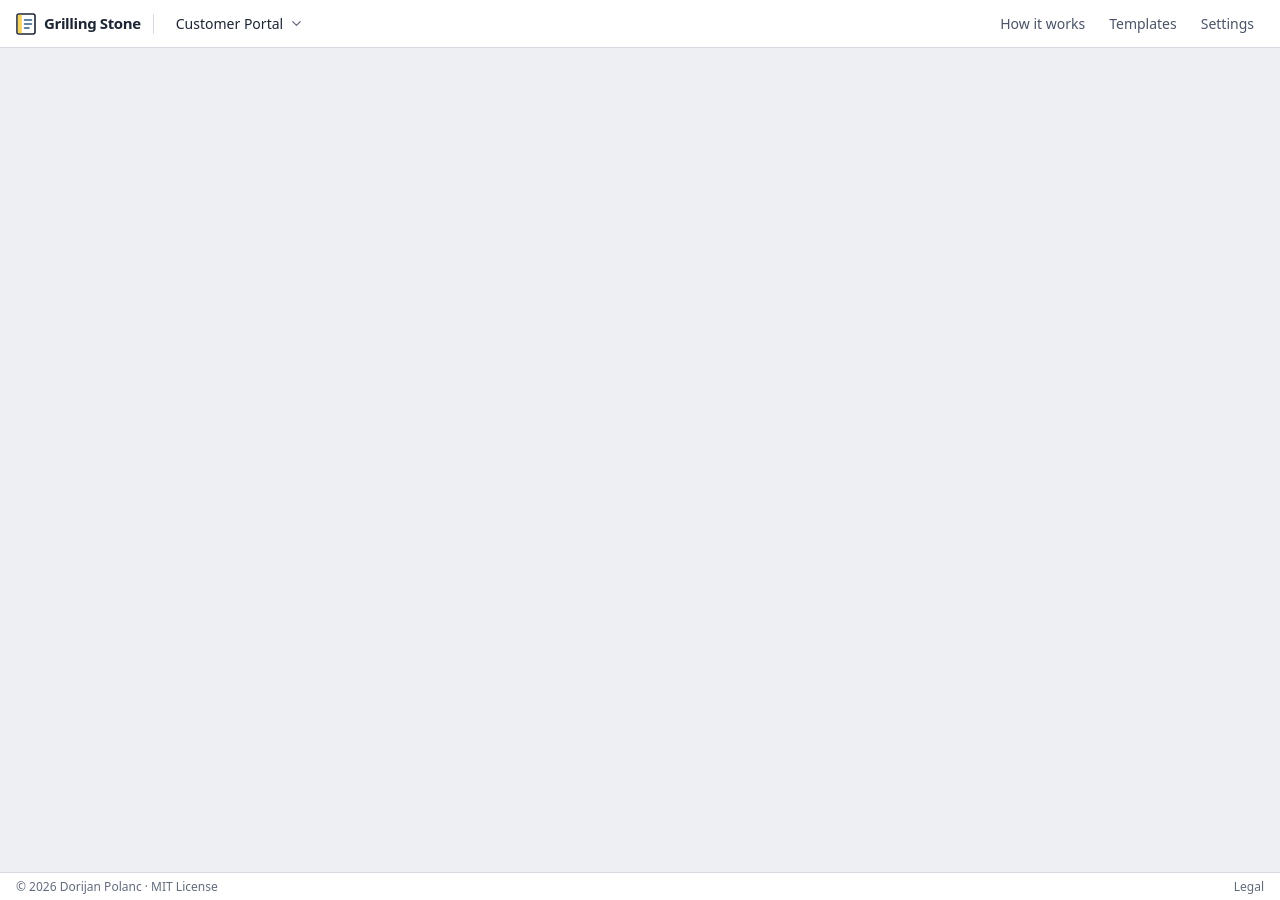
Scenario: AppLayout › switches Projects from the header and remembers the last one
Click the button "Customer Portal" at coordinates (240, 24), box [166, 8, 314, 40]
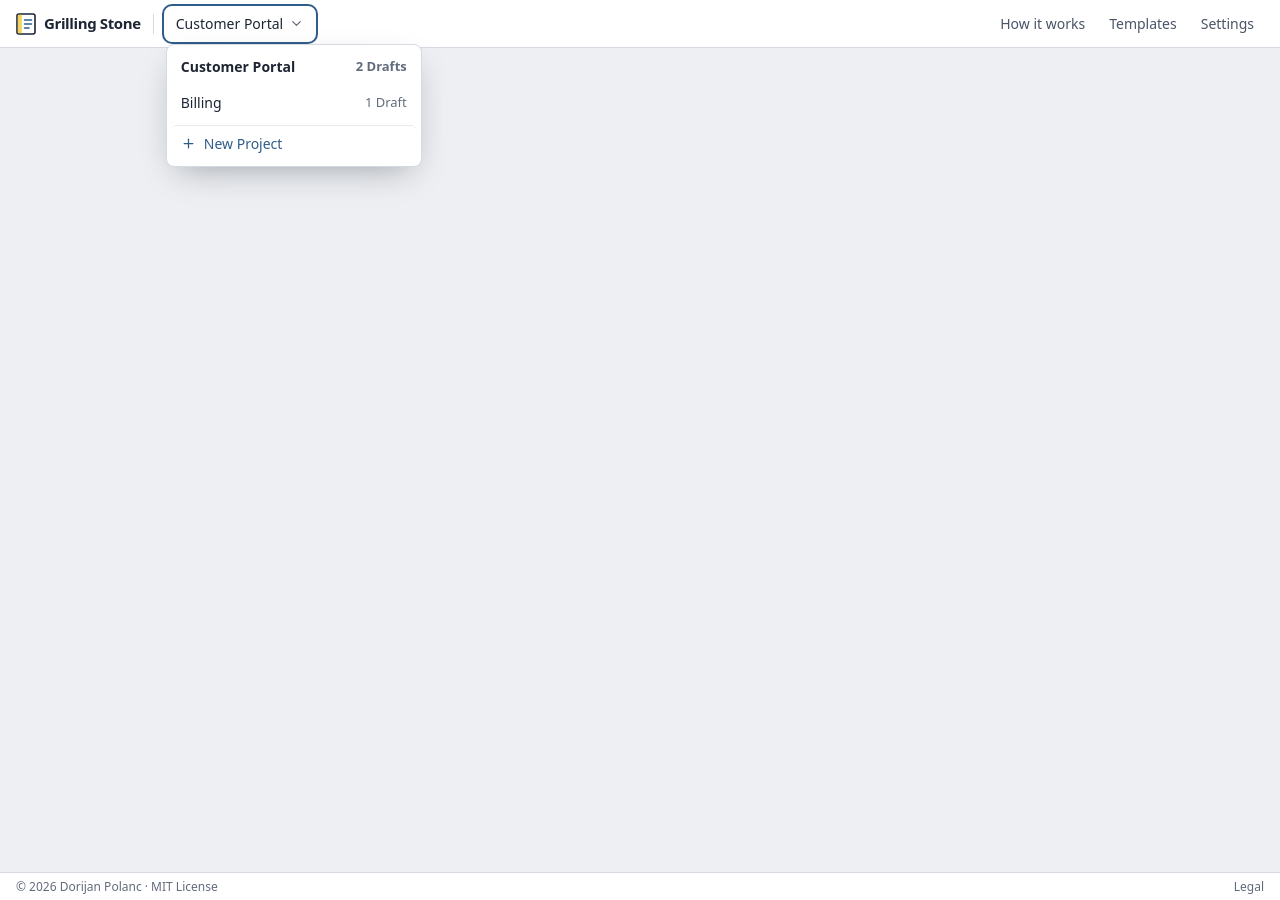
Now the button "Billing 1 Draft" is shown, box [171, 84, 417, 120]
Click the element that starts with "Grilling Stone" at coordinates (640, 450), box [0, 0, 1279, 899]
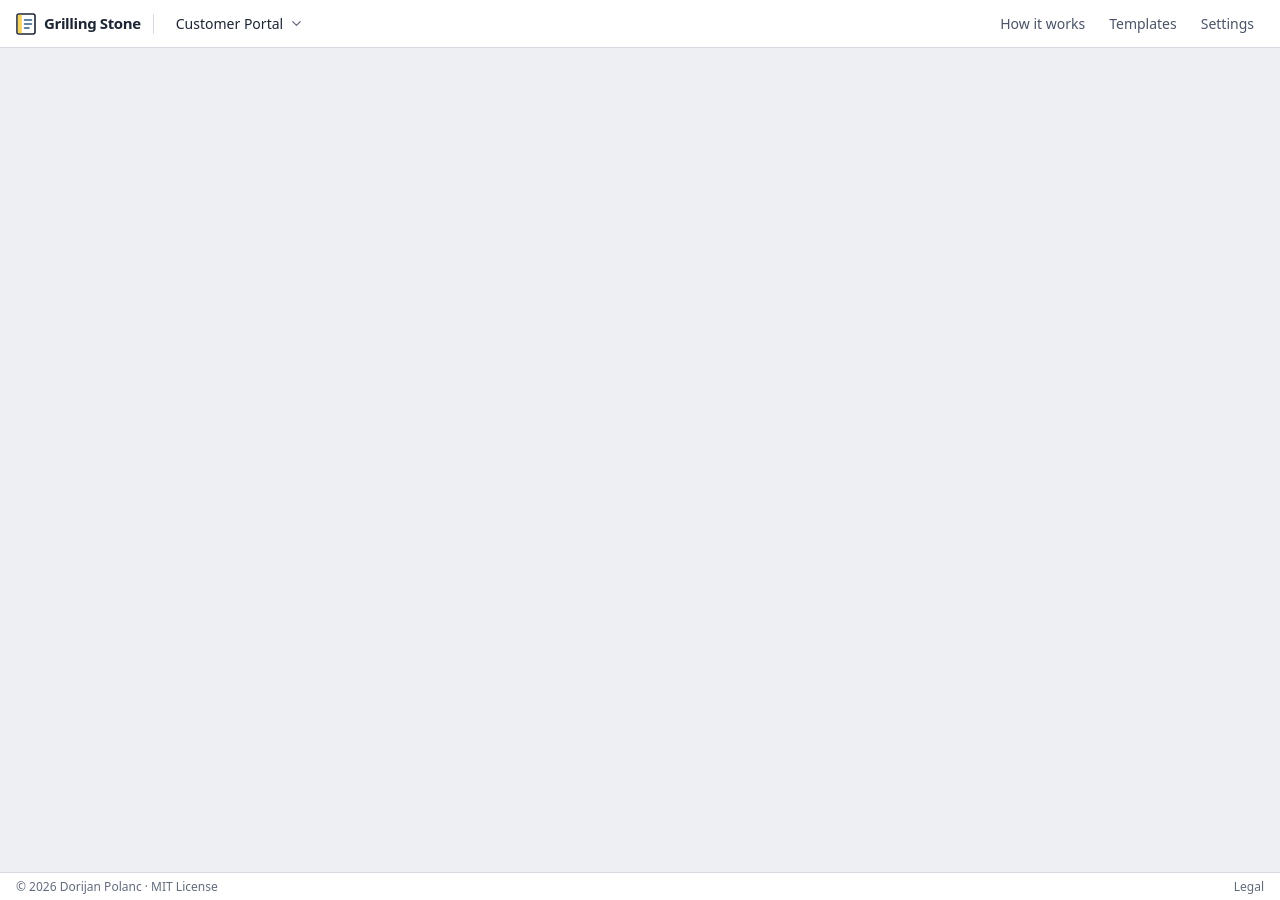
Now the button "1 Draft" is gone
Click the button "Customer Portal" at coordinates (240, 24), box [166, 8, 314, 40]
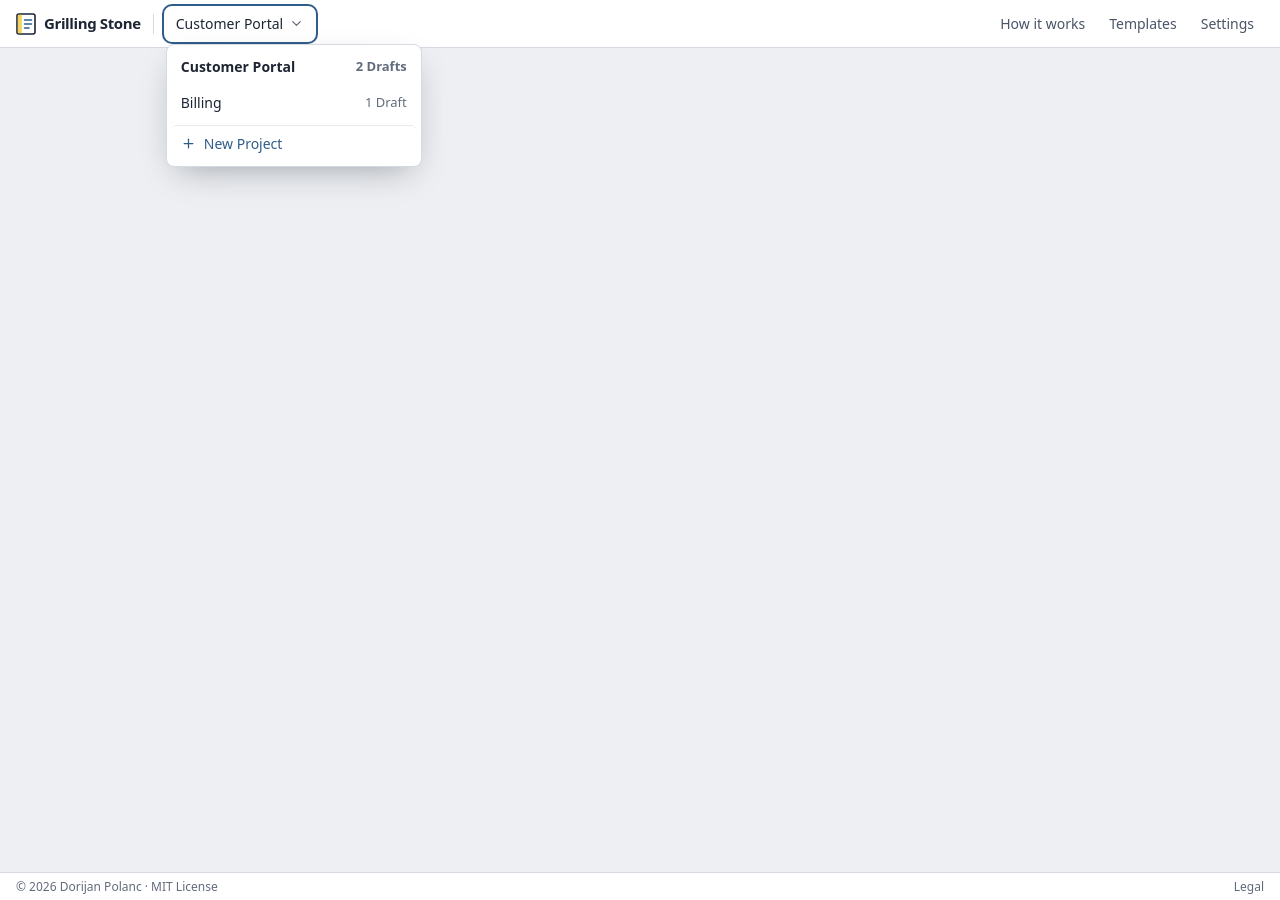
Click the button "Billing 1 Draft" at coordinates (294, 102), box [171, 84, 417, 120]
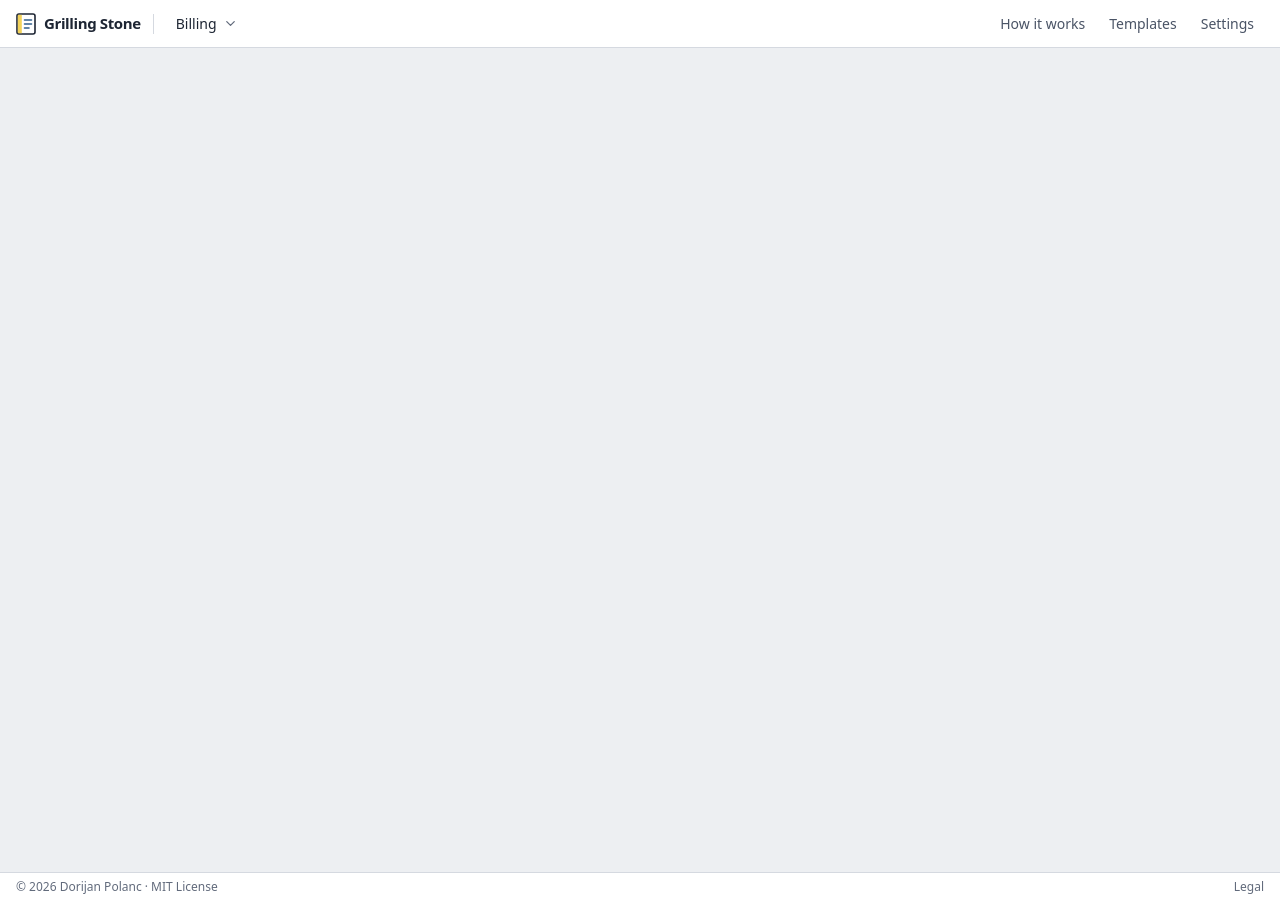
Now the button "Billing" is collapsed, box [166, 8, 248, 40]
